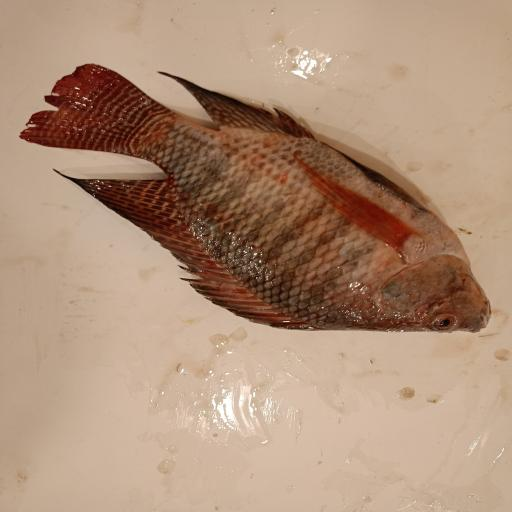Tilapia: (19, 63, 492, 333)
